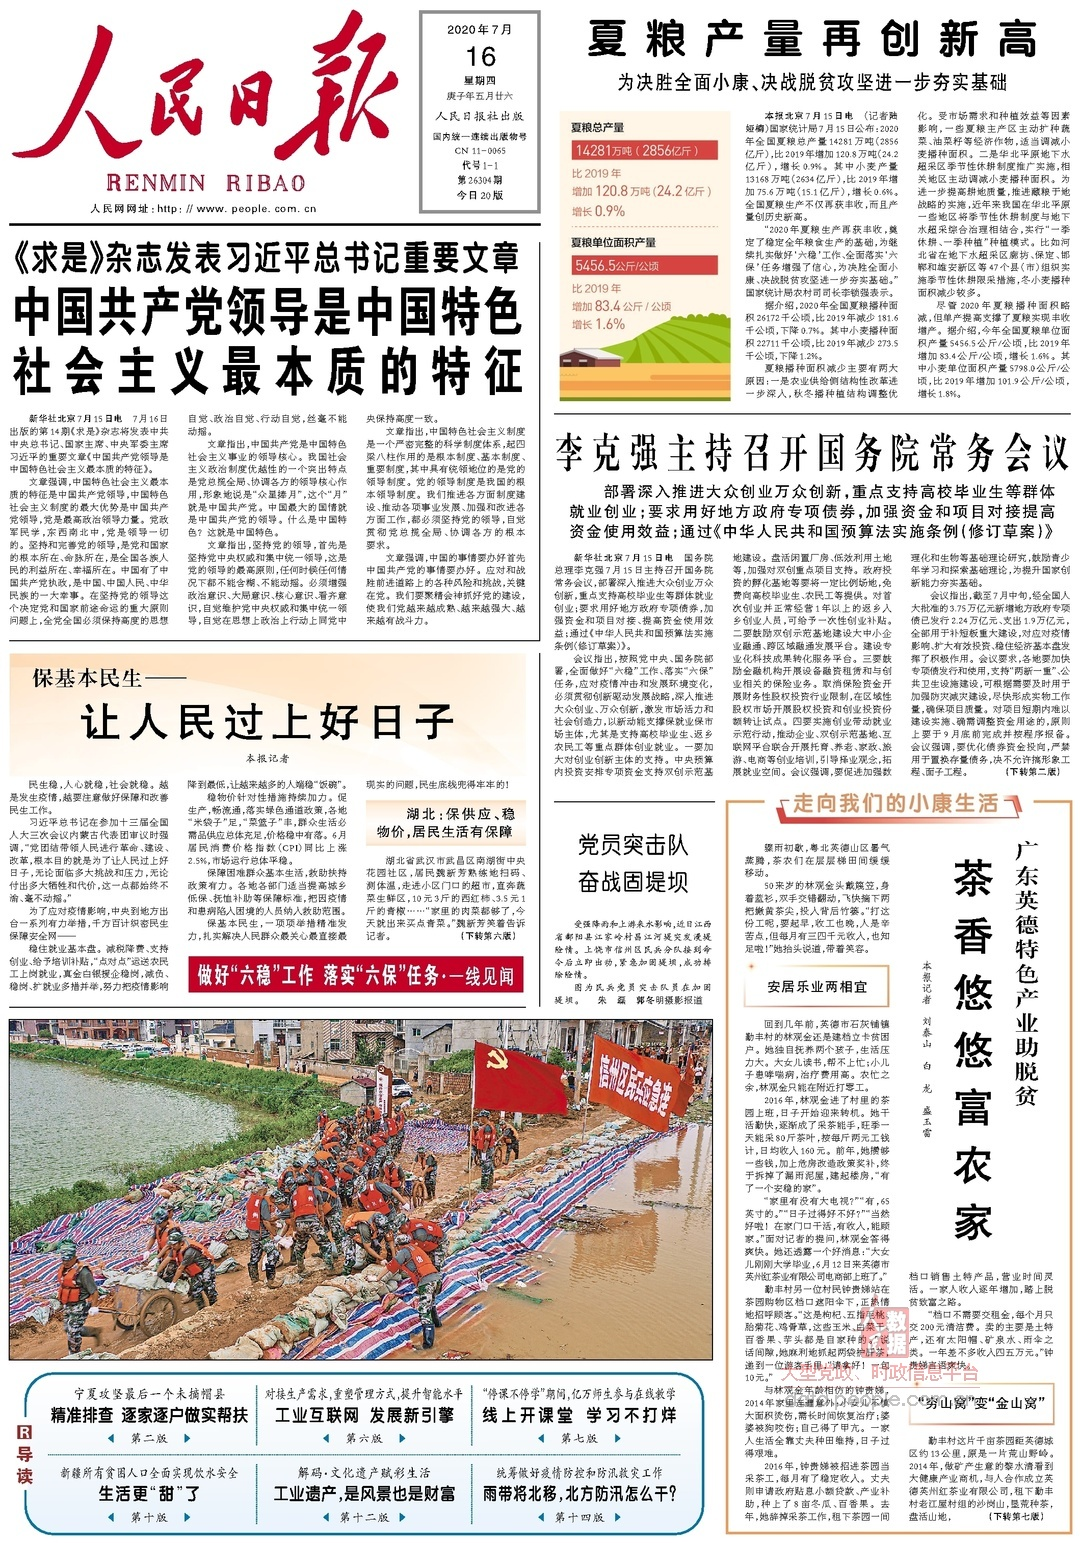pic: (5, 1012, 719, 1368)
